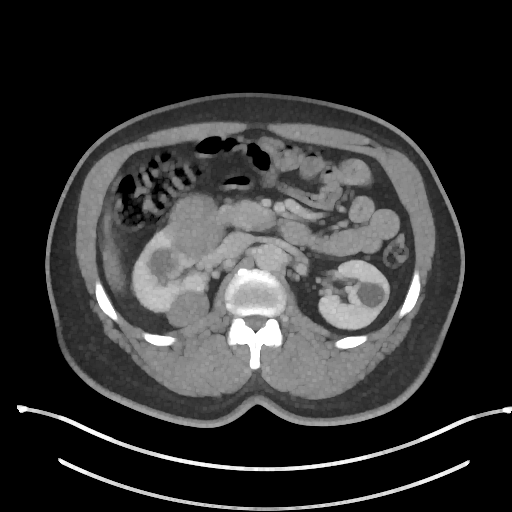Lesion: (356, 274, 388, 313)
